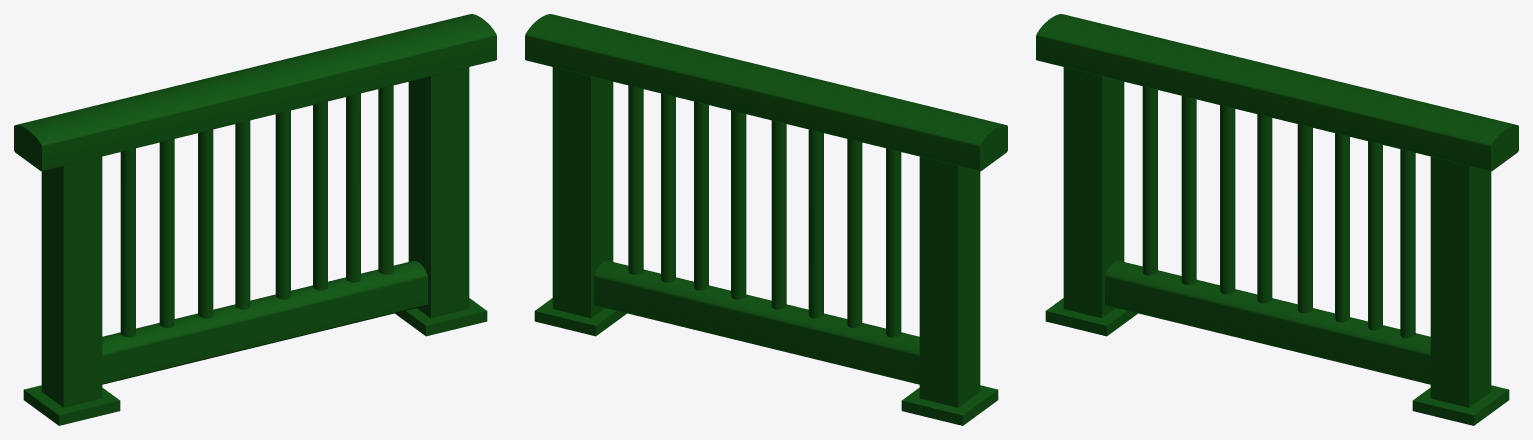
Rendered from GreenBars.fbx.
The picture shows the model from 3 angles, left to right: view 1: azimuth 30°, elevation 25°; view 2: azimuth 150°, elevation 25°; view 3: azimuth 330°, elevation 25°; orthographic projection.
Parts seen in each view (by area): view 1: pCube30, pCube31, pCube29, pCube28, pCylinder64, pCylinder67, pCylinder68, pCylinder69, pCylinder71, pCylinder70, pCylinder65, pCylinder66 (+2 smaller); view 2: pCube30, pCube31, pCube29, pCube28, pCylinder64, pCylinder67, pCylinder68, pCylinder69, pCylinder71, pCylinder70, pCylinder65, pCylinder66 (+2 smaller); view 3: pCube30, pCube31, pCube28, pCube29, pCylinder67, pCylinder71, pCylinder64, pCylinder68, pCylinder69, pCylinder70, pCylinder66, pCylinder65 (+2 smaller).
Part boxes in pixels (x1,y1,x2,y2): pCube30: [14, 14, 496, 171]; pCube31: [102, 260, 427, 384]; pCube29: [41, 156, 102, 407]; pCube28: [408, 67, 469, 318]; pCylinder64: [378, 85, 393, 274]; pCylinder67: [275, 110, 290, 299]; pCylinder68: [235, 120, 250, 309]; pCylinder69: [198, 129, 213, 318]; pCylinder71: [120, 148, 135, 337]; pCylinder70: [159, 139, 174, 328]; pCylinder65: [346, 93, 360, 282]; pCylinder66: [313, 101, 327, 290]; pCube30: [525, 14, 1007, 171]; pCube31: [594, 260, 919, 384]; pCube29: [919, 156, 980, 407]; pCube28: [552, 67, 613, 318]; pCylinder64: [628, 85, 643, 274]; pCylinder67: [731, 110, 746, 299]; pCylinder68: [771, 120, 786, 309]; pCylinder69: [808, 129, 823, 318]; pCylinder71: [886, 148, 901, 337]; pCylinder70: [847, 139, 862, 328]; pCylinder65: [661, 93, 675, 282]; pCylinder66: [694, 101, 708, 290]; pCube30: [1036, 14, 1518, 171]; pCube31: [1105, 260, 1430, 384]; pCube28: [1430, 156, 1491, 407]; pCube29: [1063, 67, 1124, 318]; pCylinder67: [1297, 124, 1312, 313]; pCylinder71: [1142, 86, 1157, 275]; pCylinder64: [1400, 149, 1415, 338]; pCylinder68: [1257, 114, 1272, 303]; pCylinder69: [1220, 105, 1235, 294]; pCylinder70: [1181, 96, 1196, 284]; pCylinder66: [1335, 133, 1349, 322]; pCylinder65: [1368, 141, 1382, 330].
Size of the model in its own units: 7.44 by 4.47 by 1.
1 material, 1 textured.
